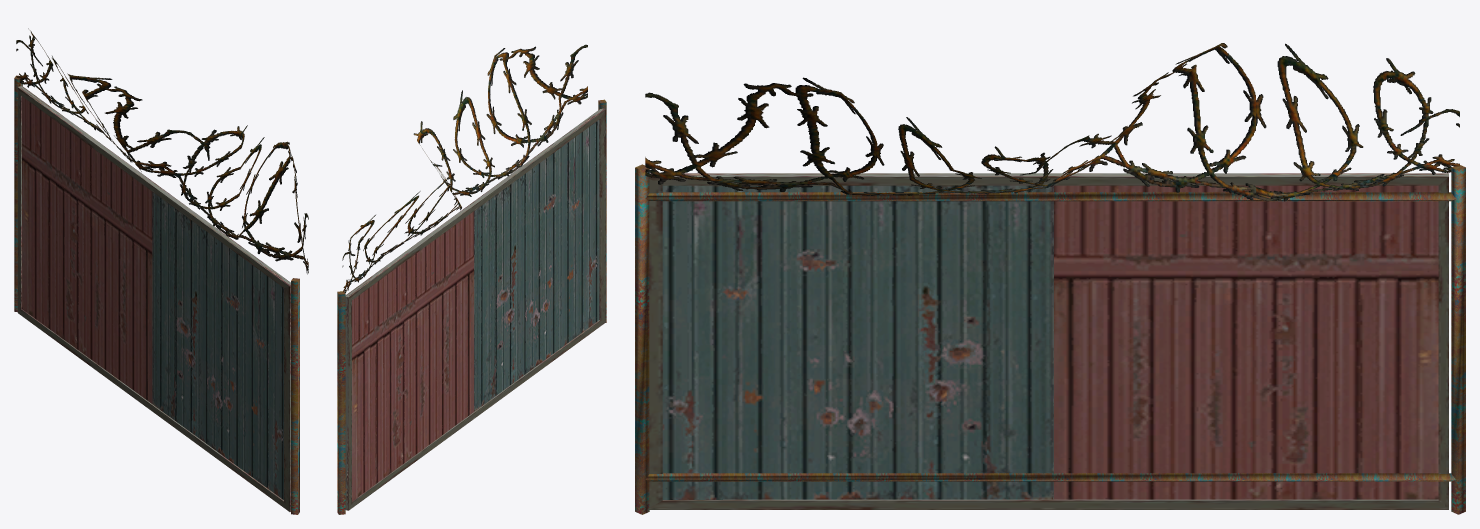
The model's file is Prop_Tsw01.glb.
The picture shows the model from 3 angles, left to right: view 1: azimuth 30°, elevation 25°; view 2: azimuth 150°, elevation 25°; view 3: azimuth 270°, elevation 25°; orthographic projection. The views are drawn at different scales.
Visible parts, largest first — view 1: xiutz_tsw_01; view 2: xiutz_tsw_01; view 3: xiutz_tsw_01.
Boxes of the visible parts, x1=… form: xiutz_tsw_01: x1=14, y1=28, x2=308, y2=514; xiutz_tsw_01: x1=337, y1=44, x2=606, y2=514; xiutz_tsw_01: x1=635, y1=43, x2=1465, y2=514.
Size of the model in its own units: 2.67 by 7.3 by 11.49.
1 material, 1 textured.
